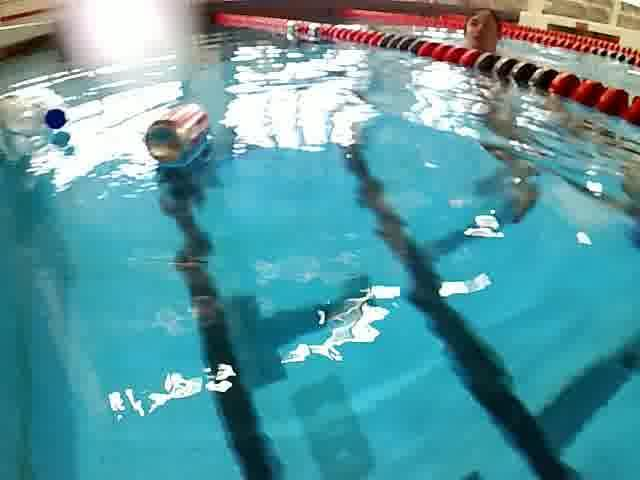Bottle: (0, 89, 74, 137)
Can: (138, 99, 216, 169), (274, 18, 329, 46)
